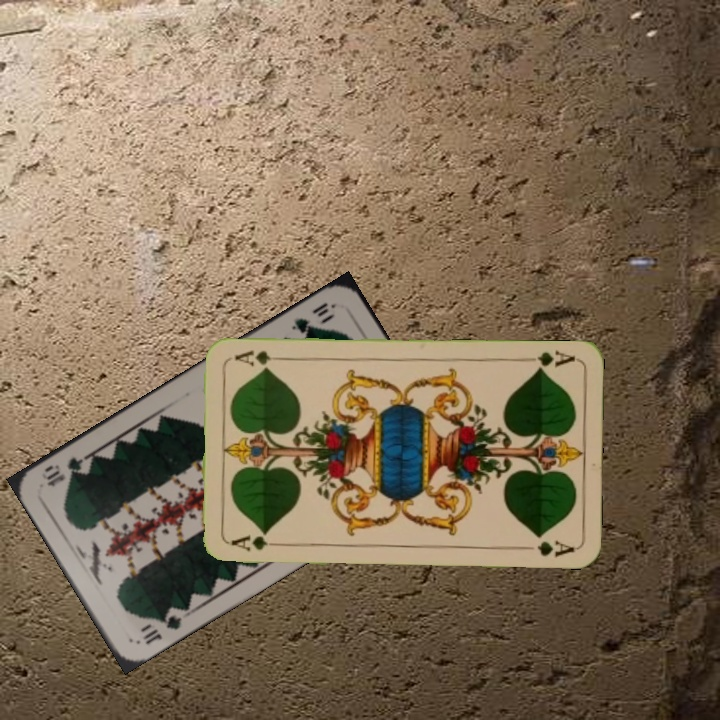G10: (287, 298, 339, 337), (138, 606, 185, 647)
GA: (519, 347, 578, 374), (227, 530, 285, 554)
